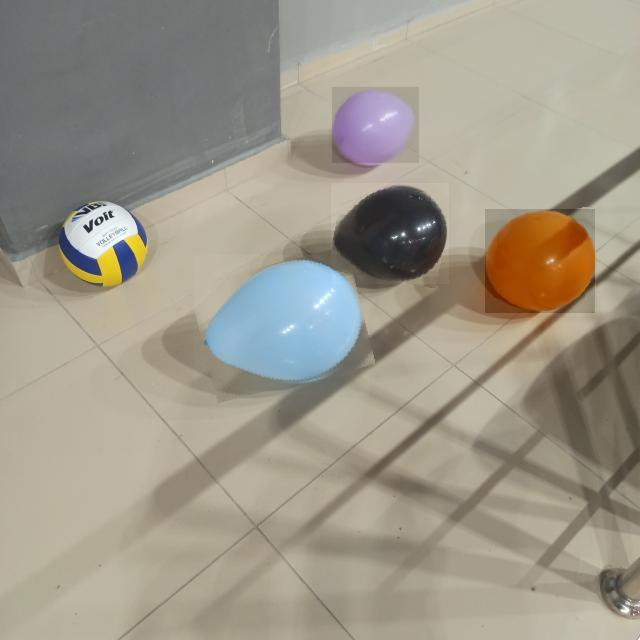balloon: (194, 255, 369, 395), (331, 183, 449, 284), (485, 209, 595, 313), (332, 87, 419, 163)
